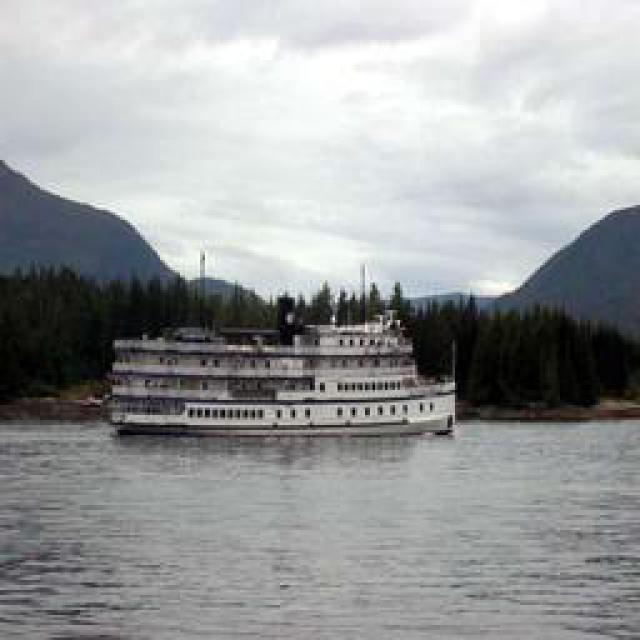Ship: (110, 296, 458, 441)
